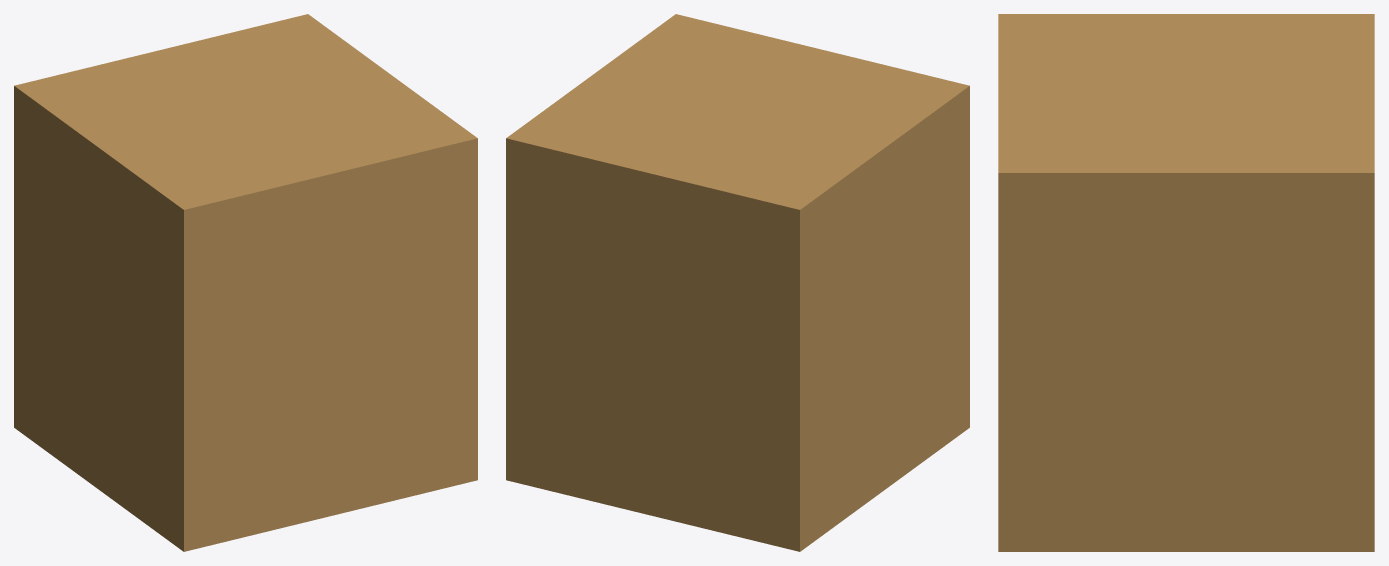
3 renders of one model, left to right at view 1: azimuth 30°, elevation 25°; view 2: azimuth 150°, elevation 25°; view 3: azimuth 270°, elevation 25°, orthographic. The views are drawn at different scales.
Visible parts, largest first — view 1: RUN-089-S00-STUD-00; view 2: RUN-089-S00-STUD-00; view 3: RUN-089-S00-STUD-00.
Boxes of the visible parts, x1,y1,x2,y2 form: RUN-089-S00-STUD-00: (14,14,477,551); RUN-089-S00-STUD-00: (506,14,969,551); RUN-089-S00-STUD-00: (998,14,1374,551).
Size of the model in its own units: 0.045 by 0.05 by 0.045.
